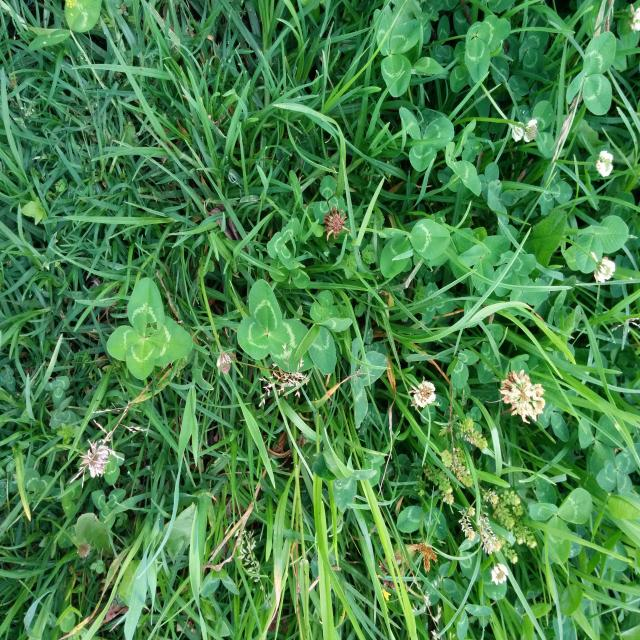Four Leaf Clover: (106, 277, 193, 379)
